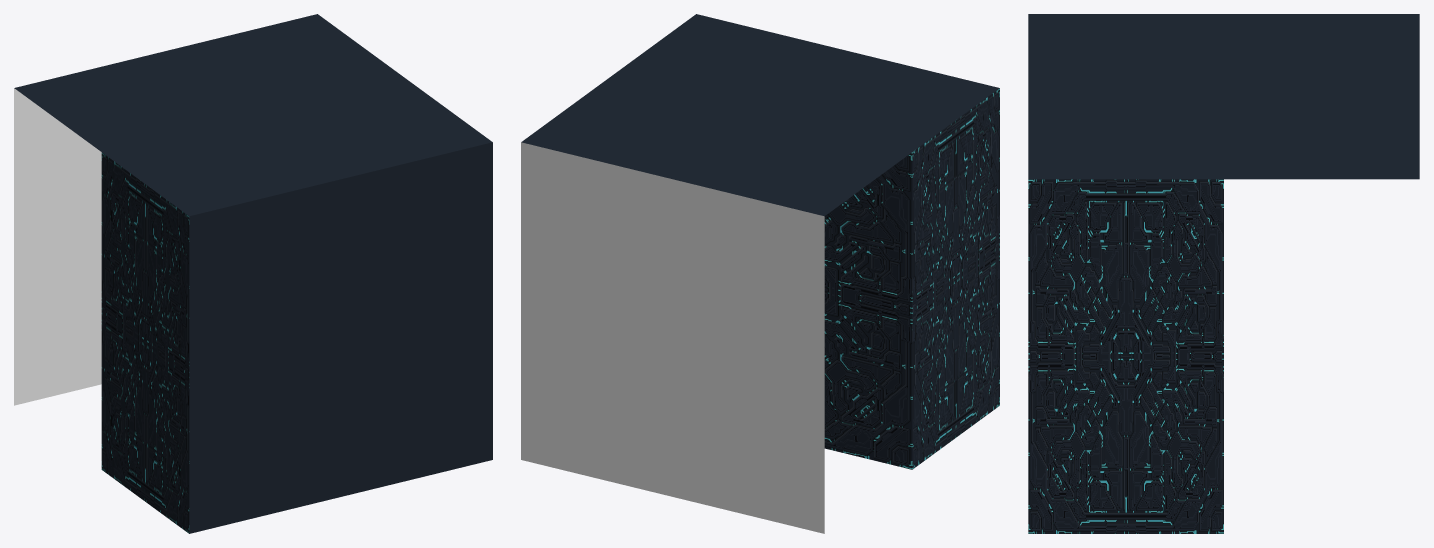
File: server_top.obj
3 views of the same model, side by side, from view 1: azimuth 30°, elevation 25°; view 2: azimuth 150°, elevation 25°; view 3: azimuth 270°, elevation 25° (orthographic). The views are drawn at different scales.
Parts seen in each view (by area): view 1: cube.001, cube, cube.000; view 2: cube.000, cube.001, cube; view 3: cube.001, cube.
Part boxes in pixels (box(x1,y1,x2,y2)): cube.001: box(101, 79, 492, 533); cube: box(14, 14, 491, 216); cube.000: box(14, 88, 101, 405); cube.000: box(521, 142, 824, 533); cube.001: box(611, 15, 999, 469); cube: box(521, 14, 999, 216); cube.001: box(1028, 14, 1223, 533); cube: box(1028, 14, 1419, 179).
Bounding box in the file's own units: 1 × 1 × 1.
